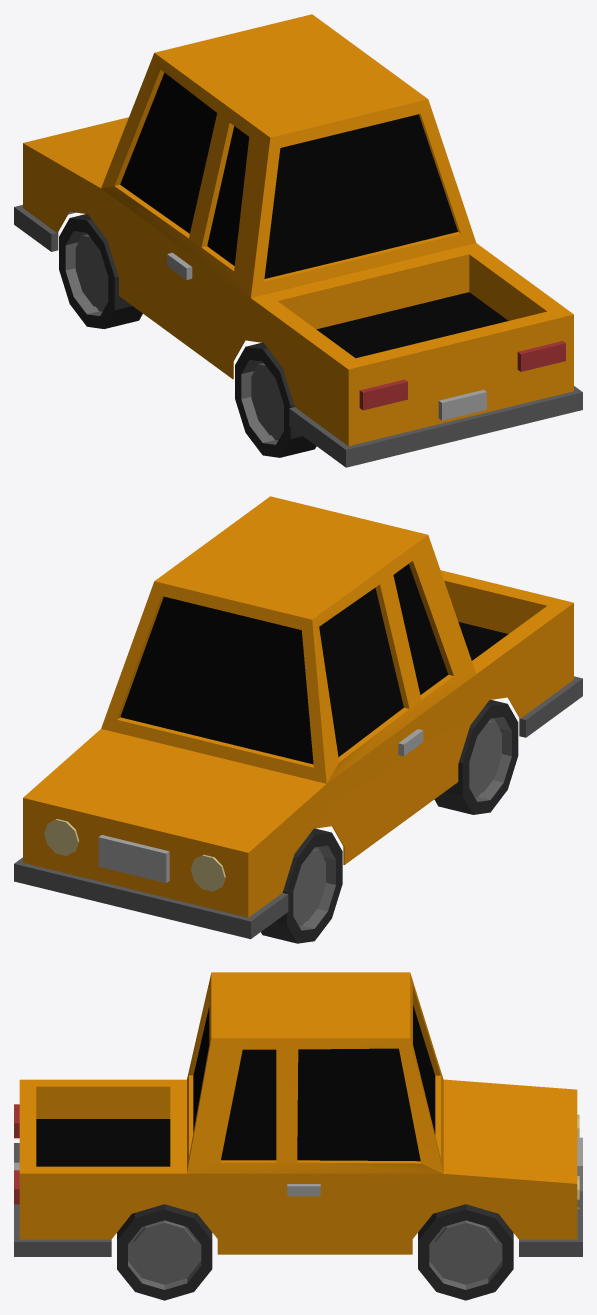
The model's file is Car Van.fbx.
3 views of the same model, one above another, from view 1: azimuth 30°, elevation 25°; view 2: azimuth 150°, elevation 25°; view 3: azimuth 270°, elevation 25° (orthographic). The views are drawn at different scales.
Visible parts, largest first — view 1: Car_Van; view 2: Car_Van; view 3: Car_Van.
Boxes of the visible parts, bbox=[...] form: Car_Van: bbox=[14, 14, 582, 467]; Car_Van: bbox=[14, 496, 582, 943]; Car_Van: bbox=[14, 972, 582, 1300].
Size of the model in its own units: 210 by 245 by 510.
